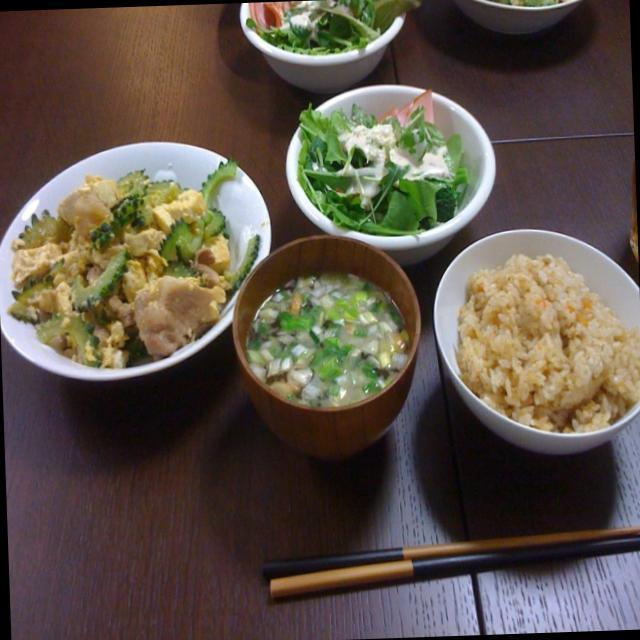Green Salad: (241, 0, 409, 72)
